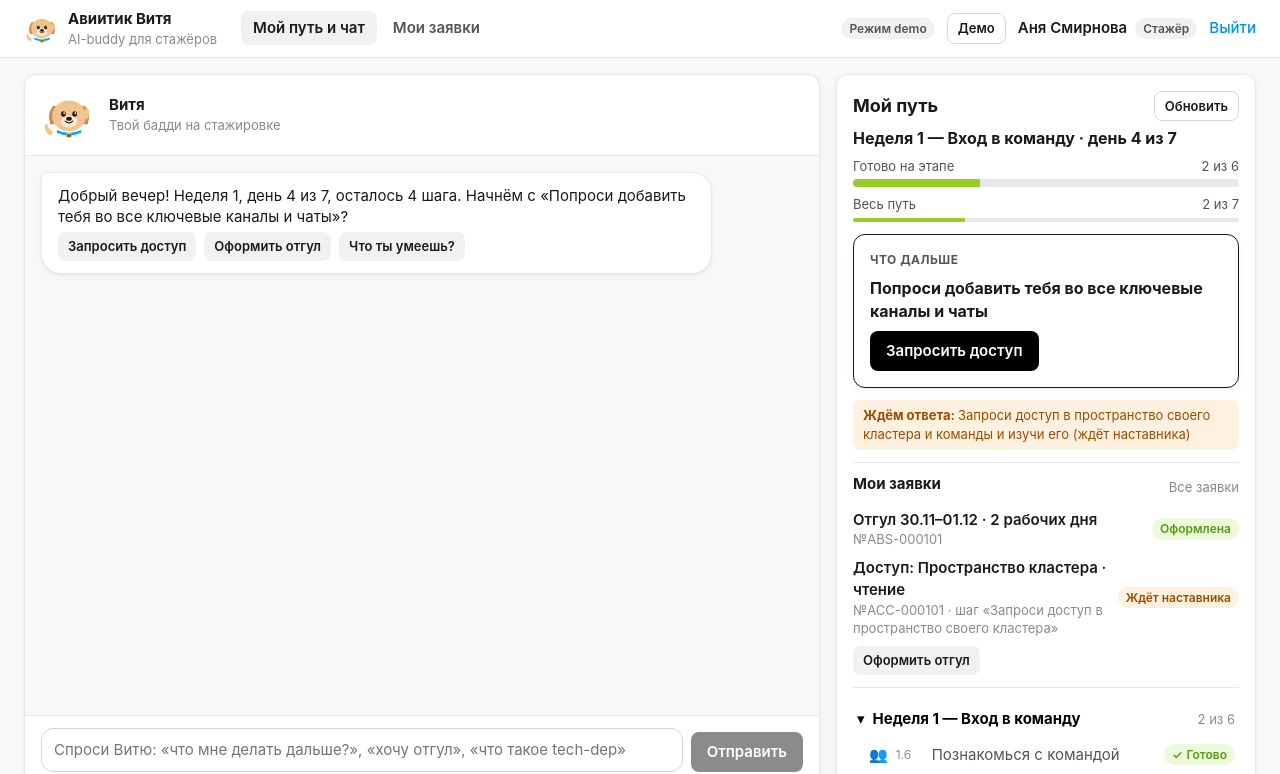
Test case: chat (wave 4) › renders text, [n] markers as links to sources, plaques by label and dated (KF-01, KF-02)
Expected: the element with test id "greeting" is shown, top-left (41, 172), bottom-right (712, 274)
Type "как делать ревью" into the text box named "Сообщение Вите" at (362, 750), box top-left (41, 728), bottom-right (683, 772)
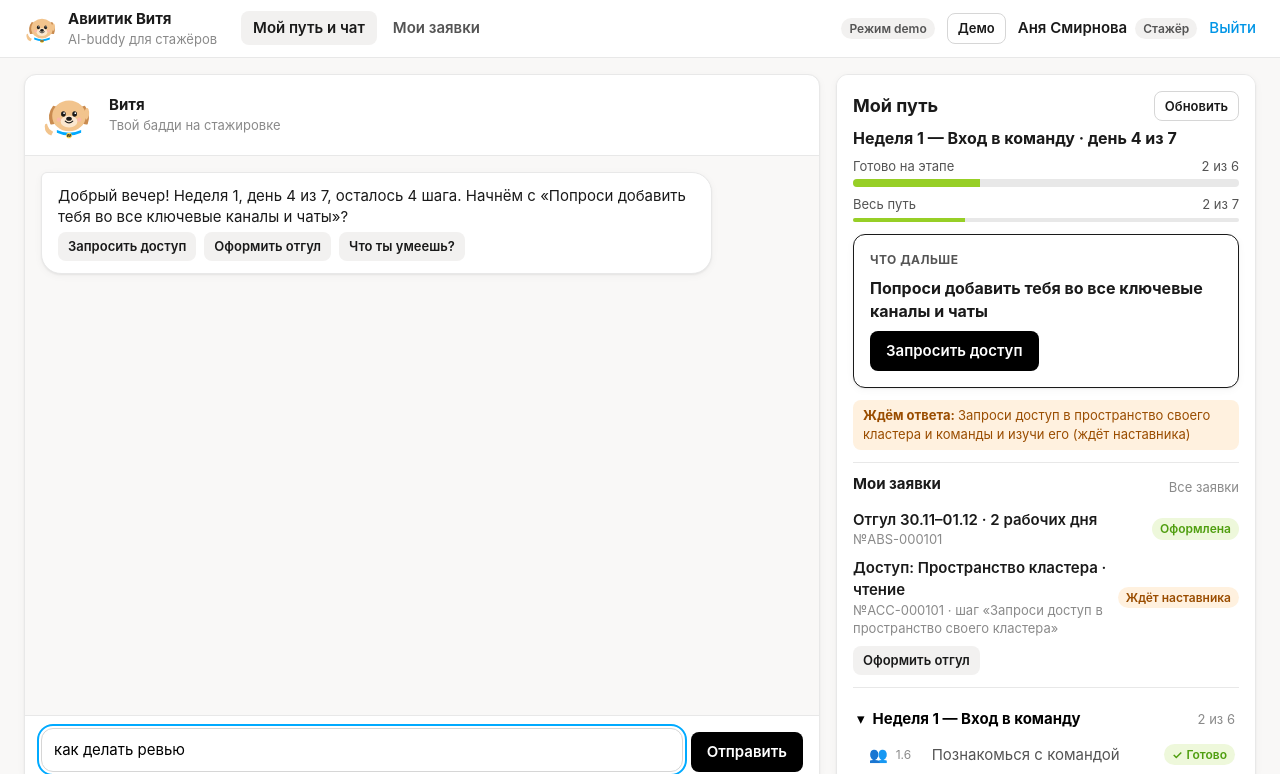
Click the button "Отправить" at (747, 752), box top-left (691, 732), bottom-right (803, 772)
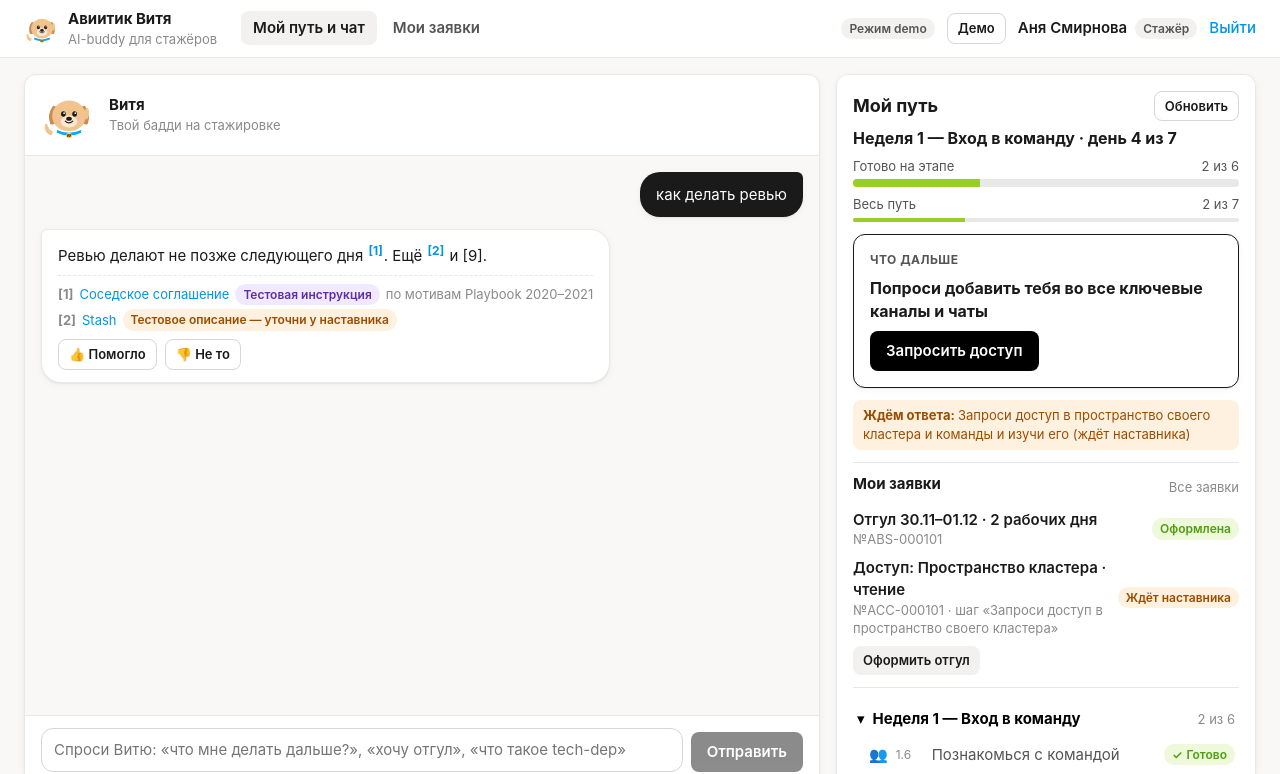
Expected: the links read "[1]", "[2]", in this order, top-left (368, 243), bottom-right (383, 258); top-left (428, 243), bottom-right (444, 258)
Expected: the text "Ревью делают не позже следующего дня [1] . Ещё [2] и [9]." is shown, top-left (58, 243), bottom-right (487, 265)
Expected: the text "Тестовая инструкция" is shown, top-left (235, 284), bottom-right (380, 306)
